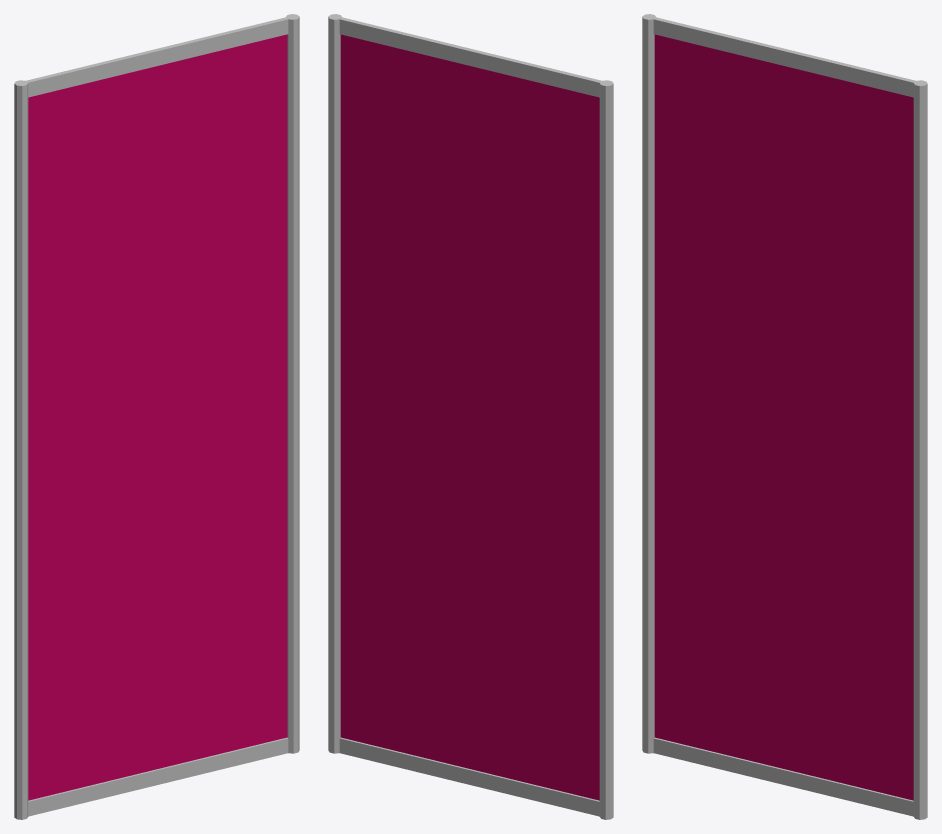
The picture shows the model from 3 angles, left to right: view 1: azimuth 30°, elevation 25°; view 2: azimuth 150°, elevation 25°; view 3: azimuth 330°, elevation 25°; orthographic projection.
Visible parts, largest first — view 1: Mesh1 Model; view 2: Mesh1 Model; view 3: Mesh1 Model.
Part boxes in pixels (x1,y1,x2,y2): Mesh1 Model: [14, 14, 299, 819]; Mesh1 Model: [328, 14, 613, 819]; Mesh1 Model: [642, 14, 927, 819].
Size of the model in its own units: 100 by 248 by 4.
